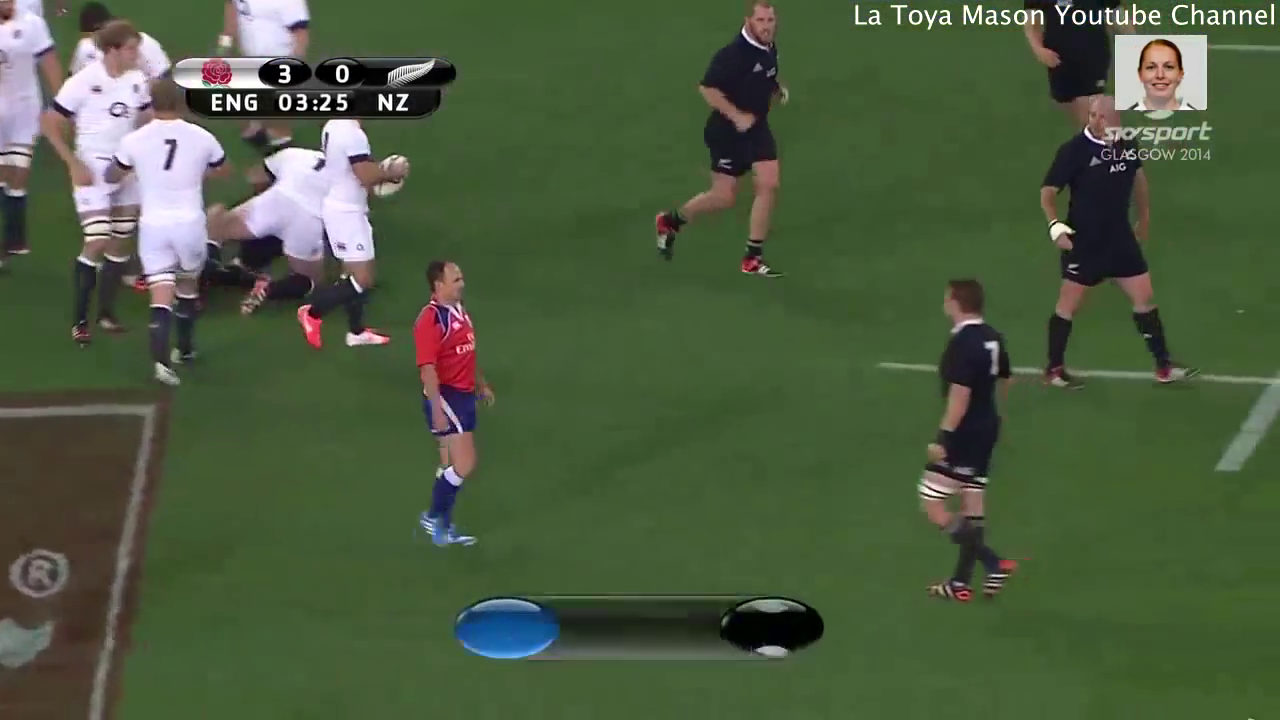ball: (367, 141, 422, 208)
player: (1025, 81, 1204, 396), (897, 266, 1029, 628), (644, 1, 803, 288), (98, 76, 238, 397), (31, 15, 159, 358), (282, 86, 417, 363), (197, 122, 350, 308), (409, 254, 495, 555), (1011, 1, 1127, 156), (1, 1, 63, 268)
